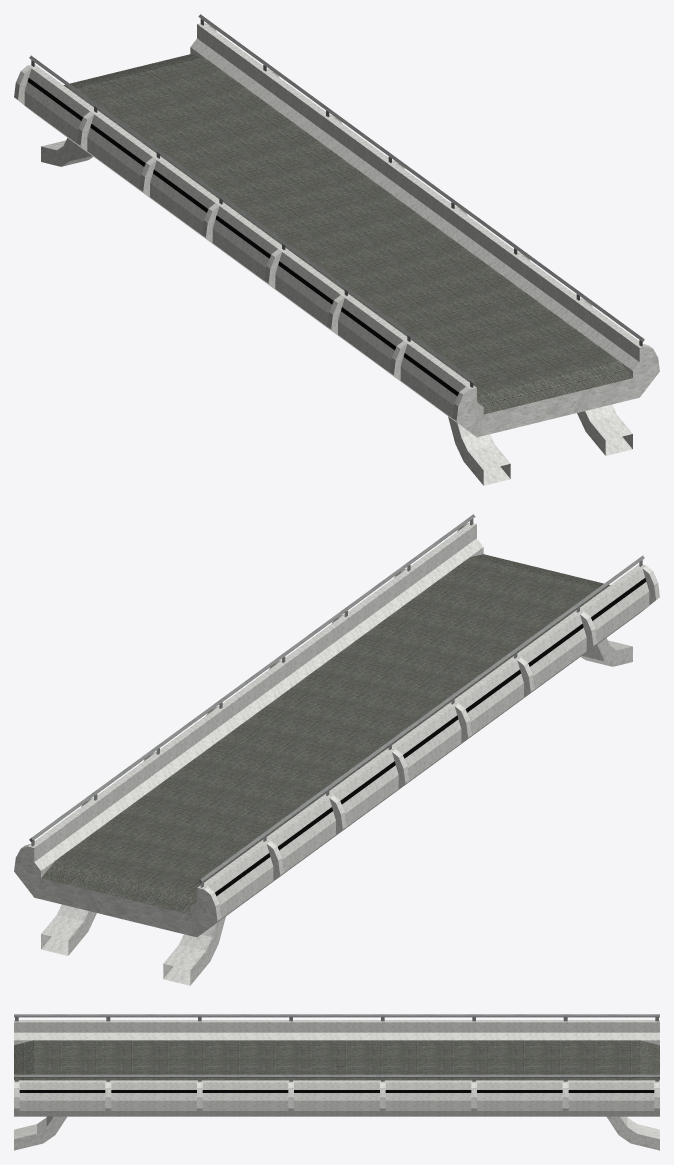
Rendered from thm_corl_imprv_bridge_lg_s01_l1.fbx.
3 views of the same model, one above another, from view 1: azimuth 30°, elevation 25°; view 2: azimuth 150°, elevation 25°; view 3: azimuth 270°, elevation 25° (orthographic). The views are drawn at different scales.
Parts seen in each view (by area): view 1: mesh_node; view 2: mesh_node; view 3: mesh_node.
Boxes of the visible parts, x1,y1,x2,y2 form: mesh_node: (14, 14, 659, 485); mesh_node: (14, 514, 659, 985); mesh_node: (14, 1014, 659, 1150).
Size of the model in its own units: 7.5 by 3.84 by 28.25.
